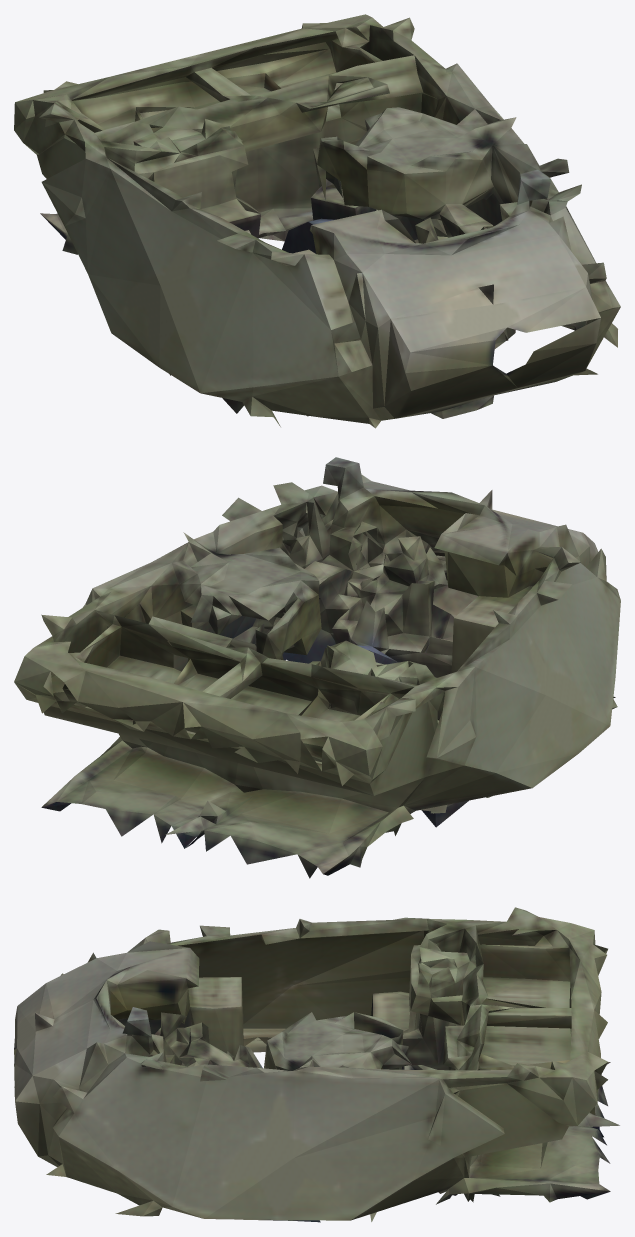
Rendered from m10_turret.obj.
3 renders of one model, top to bottom at view 1: azimuth 30°, elevation 25°; view 2: azimuth 150°, elevation 25°; view 3: azimuth 270°, elevation 25°, orthographic. The views are drawn at different scales.
Parts seen in each view (by area): view 1: m10_turret; view 2: m10_turret; view 3: m10_turret.
Boxes of the visible parts, x1,y1,x2,y2 form: m10_turret: (14, 14, 620, 428); m10_turret: (14, 457, 620, 878); m10_turret: (14, 907, 619, 1222).
Size of the model in its own units: 2.44 by 1.35 by 3.3.
Materials: 1 (1 with a texture image).
